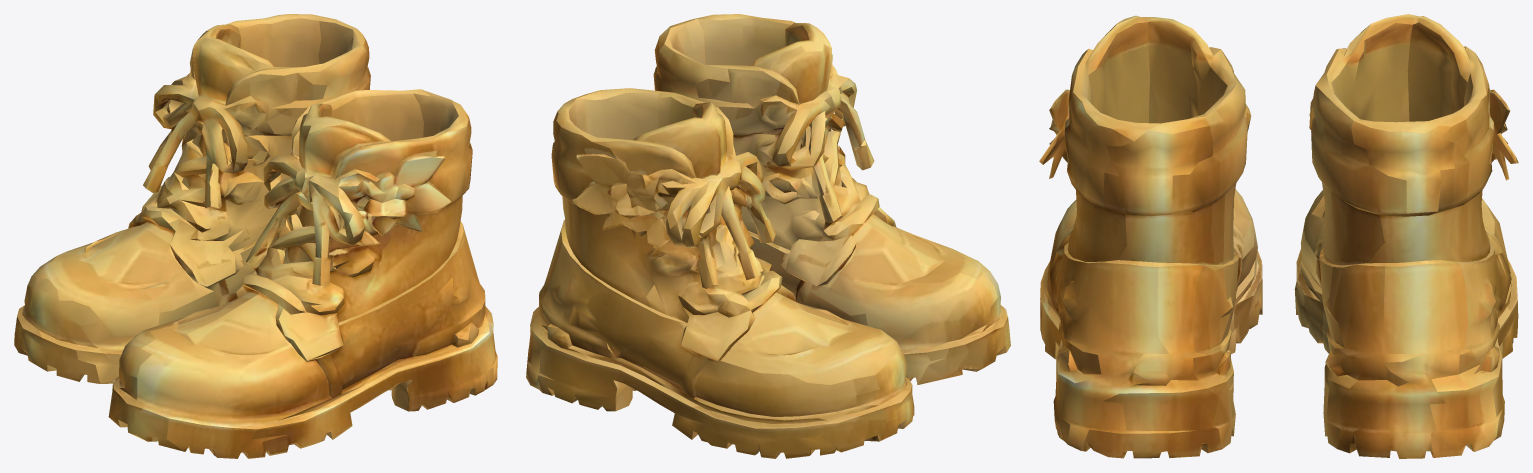
The model's file is shoe-gold.glb.
3 views of the same model, side by side, from view 1: azimuth 30°, elevation 25°; view 2: azimuth 150°, elevation 25°; view 3: azimuth 270°, elevation 25° (orthographic). The views are drawn at different scales.
Parts seen in each view (by area): view 1: geometry_0; view 2: geometry_0; view 3: geometry_0.
Part boxes in pixels (x1,y1,x2,y2): geometry_0: (14,14,497,458); geometry_0: (526,14,1010,458); geometry_0: (1039,14,1518,458).
Bounding box in the file's own units: 0.25 × 0.1937 × 0.2374.
Materials: 1 (1 with a texture image).
